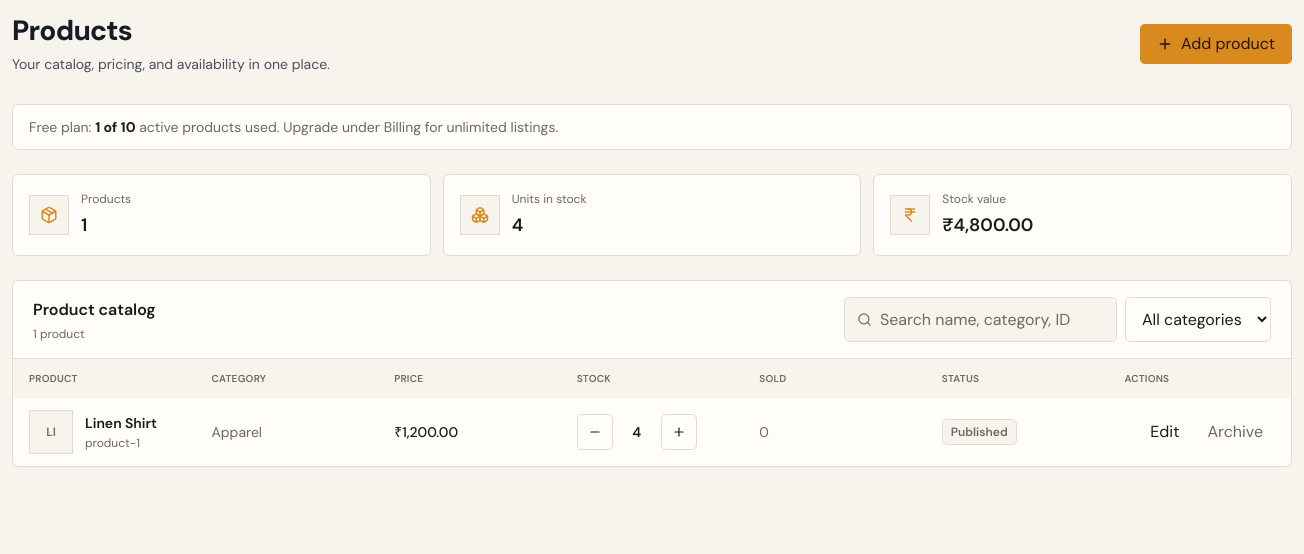
Test: Products archive workflow › archives a listing and restores it without deleting its product record
The width and height of the screenshot is (1304, 554).
Click the button "Archive" at {"x": 1235, "y": 432}, box x1=1195 y1=412 x2=1275 y2=452
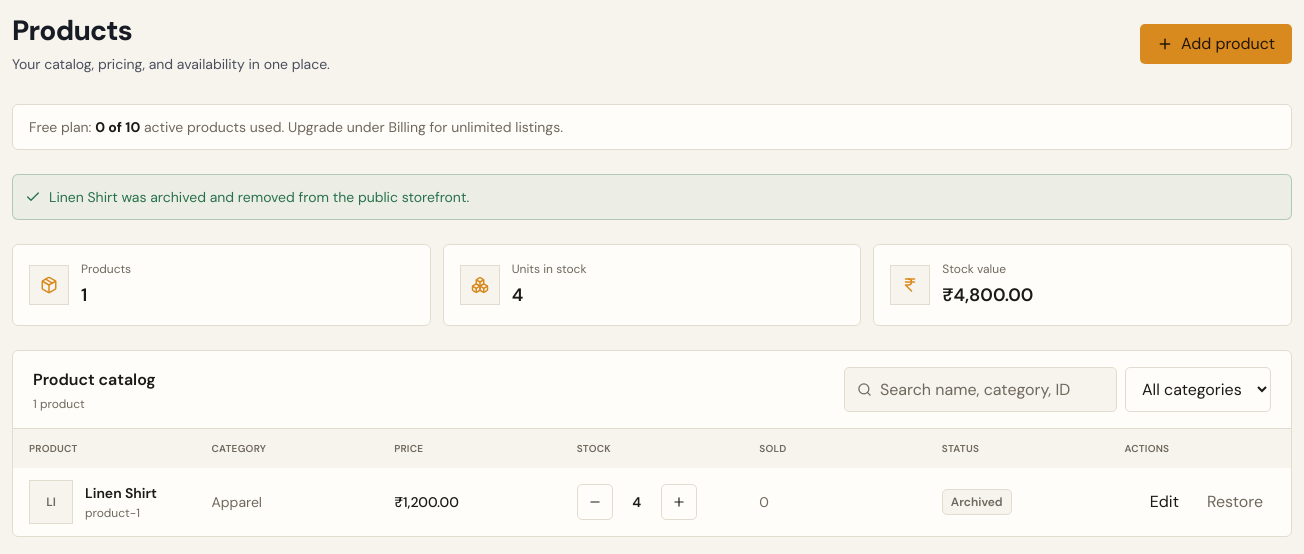
Now the message shows "archived and removed from the public storefront", box x1=49 y1=188 x2=469 y2=206
Click the button "Restore" at {"x": 1235, "y": 502}, box x1=1195 y1=482 x2=1275 y2=522
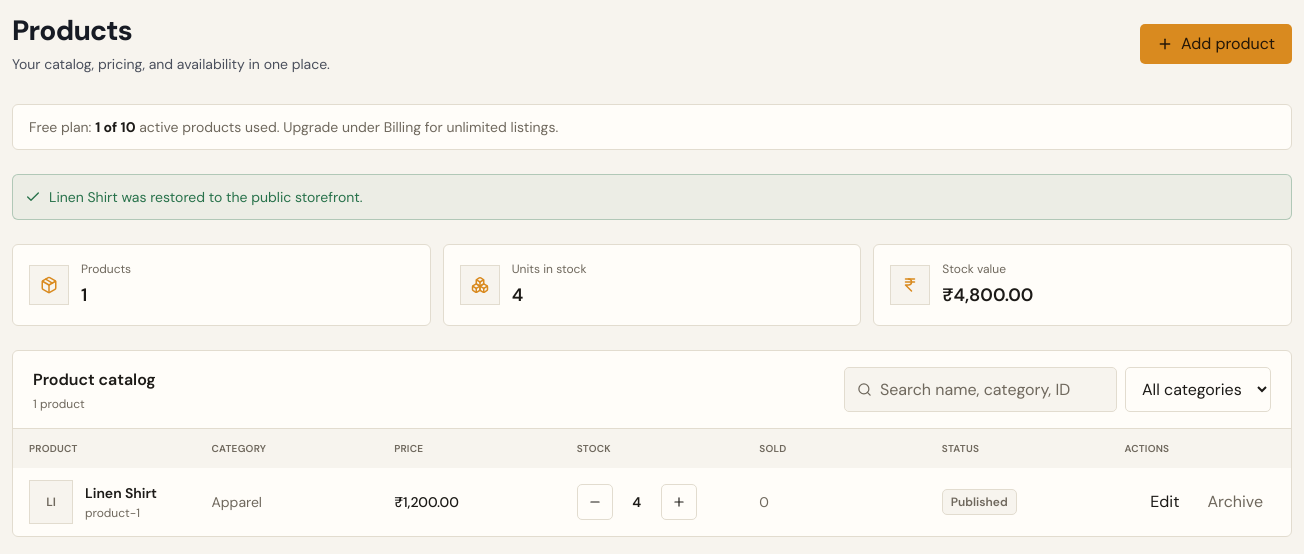
Now the message shows "restored to the public storefront", box x1=49 y1=188 x2=362 y2=206
